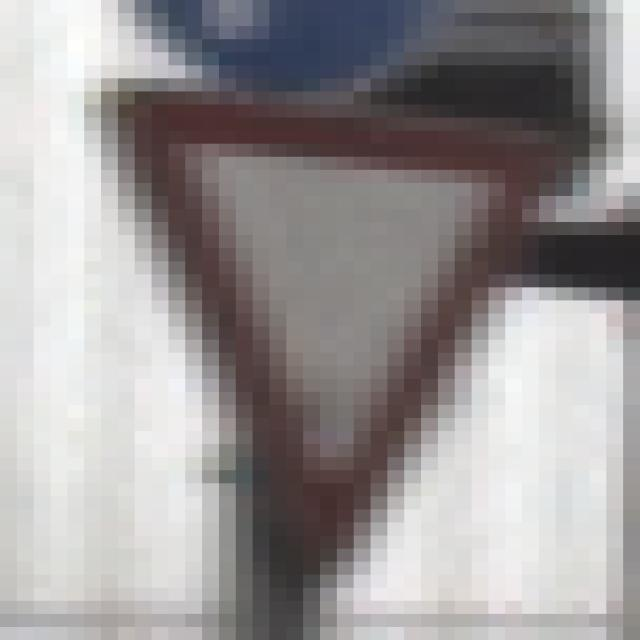Give Way: (85, 66, 557, 576)
